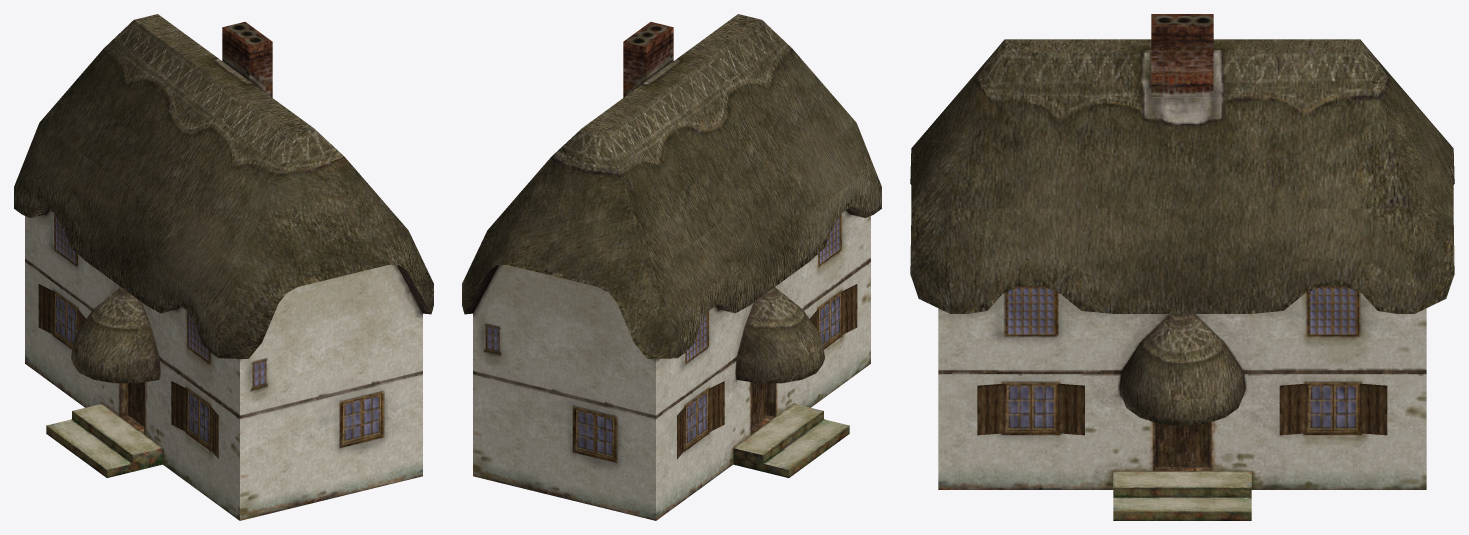
File: English_thatched_house.FBX
The picture shows the model from 3 angles, left to right: view 1: azimuth 30°, elevation 25°; view 2: azimuth 150°, elevation 25°; view 3: azimuth 270°, elevation 25°; orthographic projection. The views are drawn at different scales.
Parts seen in each view (by area): view 1: English_thatched_house; view 2: English_thatched_house; view 3: English_thatched_house.
Boxes of the visible parts, x1=… form: English_thatched_house: x1=14, y1=14, x2=433, y2=520; English_thatched_house: x1=462, y1=14, x2=881, y2=520; English_thatched_house: x1=910, y1=14, x2=1454, y2=520.
Size of what is drawn, in the model's own units: 9.85 by 13.85 by 12.13.
